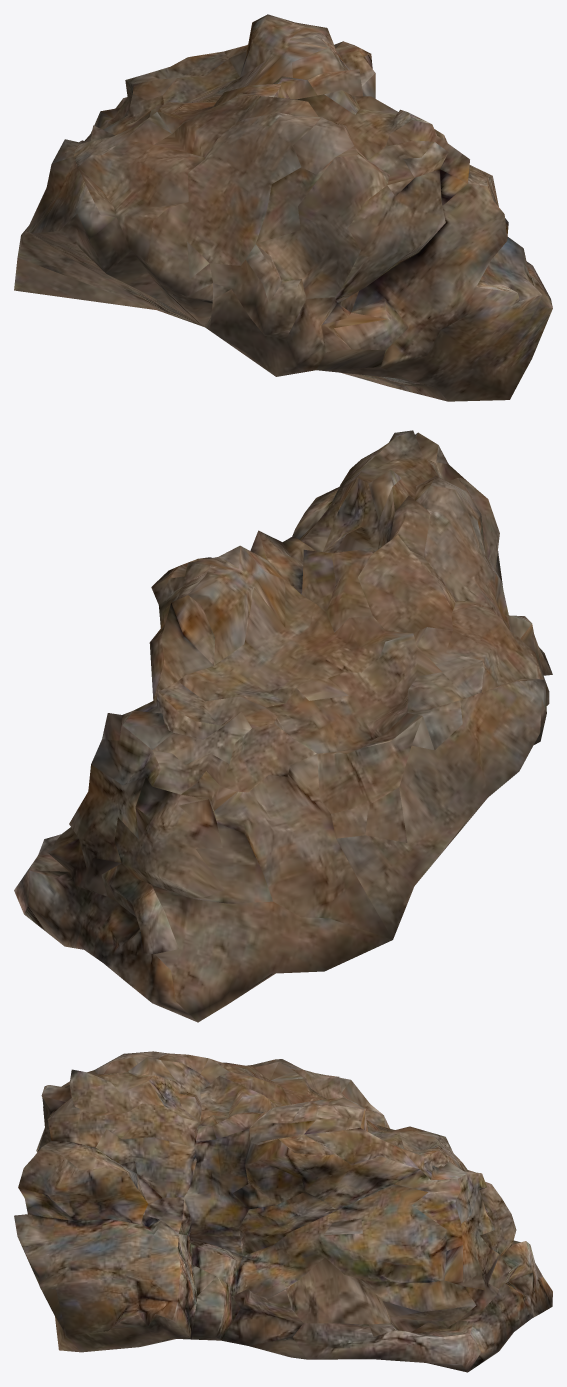
Rendered from rock_boulder_01.glb.
The picture shows the model from 3 angles, top to bottom: view 1: azimuth 30°, elevation 25°; view 2: azimuth 150°, elevation 25°; view 3: azimuth 270°, elevation 25°; orthographic projection. The views are drawn at different scales.
Visible parts, largest first — view 1: rock_boulder_01; view 2: rock_boulder_01; view 3: rock_boulder_01.
Boxes of the visible parts, x1=… form: rock_boulder_01: x1=14, y1=14, x2=552, y2=401; rock_boulder_01: x1=14, y1=430, x2=552, y2=1022; rock_boulder_01: x1=14, y1=1051, x2=552, y2=1372.
Size of the model in its own units: 1.27 by 1 by 1.81.
1 material, 1 textured.
